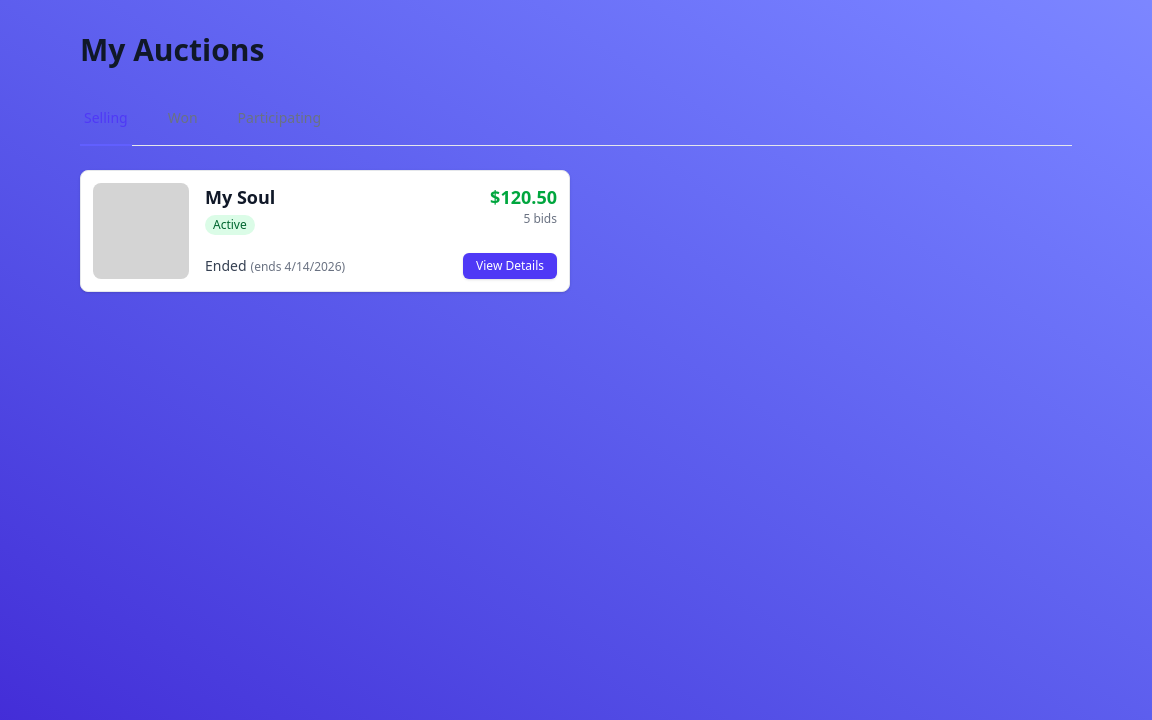
Test: UserAuctions Component › switches to Won tab and shows won auctions
Click the button "Won". click: (183,119)
box: x1=164 y1=92 x2=202 y2=146
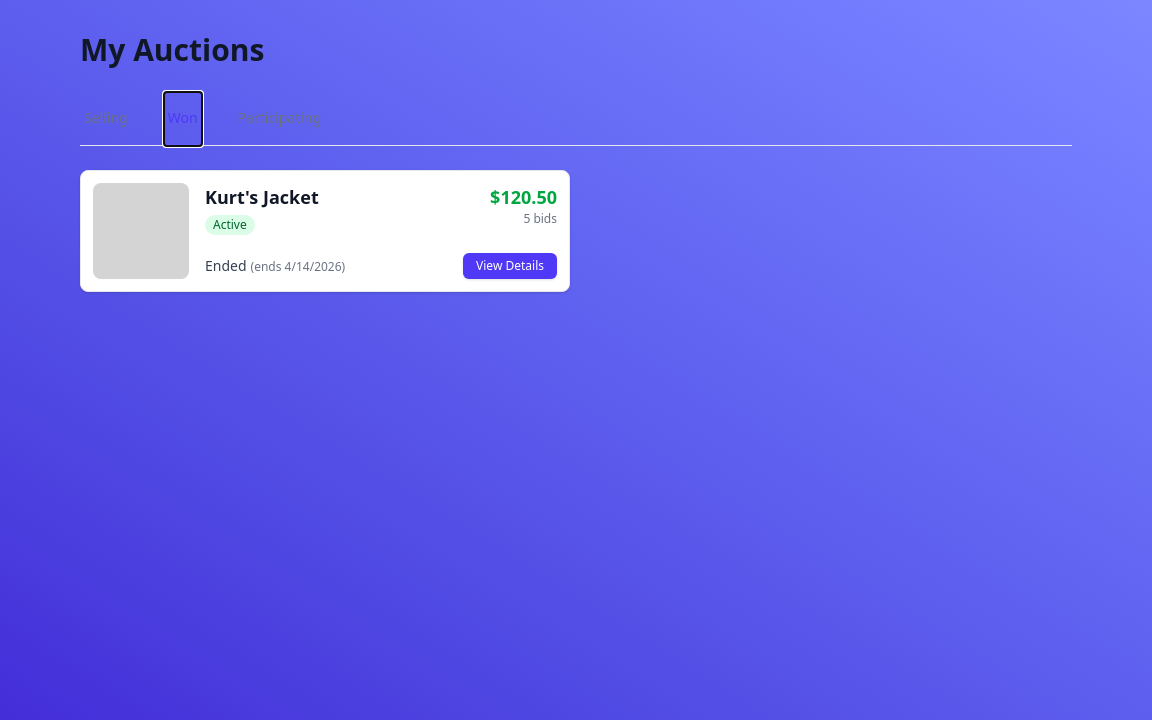
expect the link "Kurt's Jacket" is shown: met, box x1=205 y1=185 x2=319 y2=209
expect the link "My Soul" is gone: met
